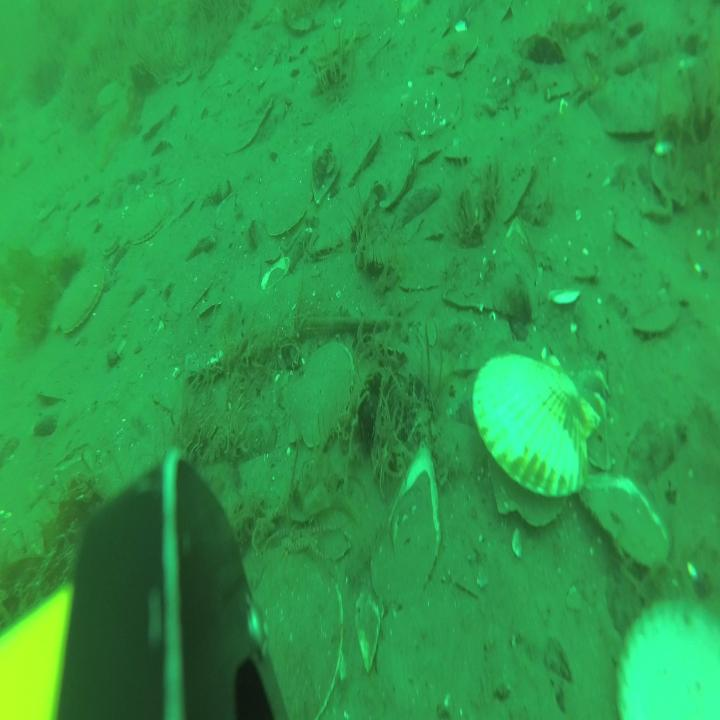scallop: (473, 338, 602, 533), (287, 332, 360, 451), (405, 77, 468, 144), (55, 262, 107, 336), (430, 24, 480, 83), (265, 180, 314, 239), (128, 191, 172, 248), (378, 148, 413, 210), (636, 300, 686, 343), (346, 126, 382, 182), (142, 98, 174, 140), (416, 135, 442, 165), (446, 138, 473, 166), (98, 228, 118, 256)
